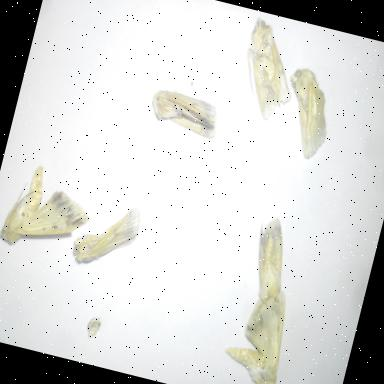abw: (0, 154, 103, 265), (226, 13, 310, 130), (213, 277, 301, 384), (269, 58, 346, 167), (66, 188, 148, 278), (238, 208, 300, 311), (142, 82, 226, 147)
